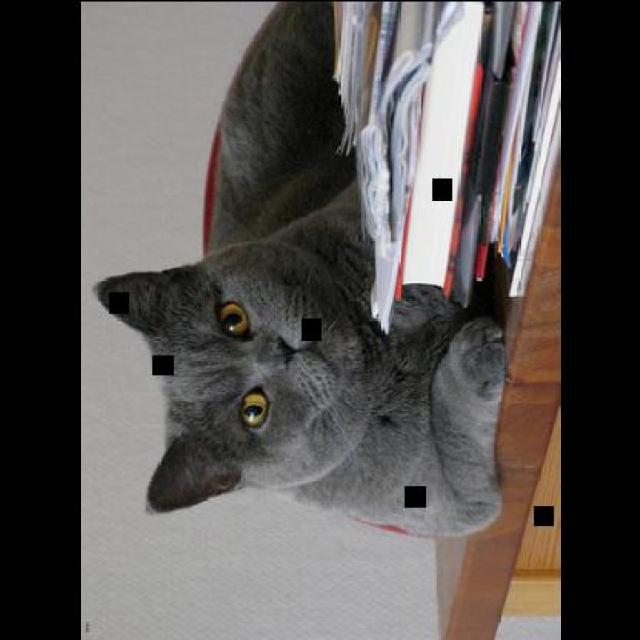unauthorized: (92, 0, 507, 538)
